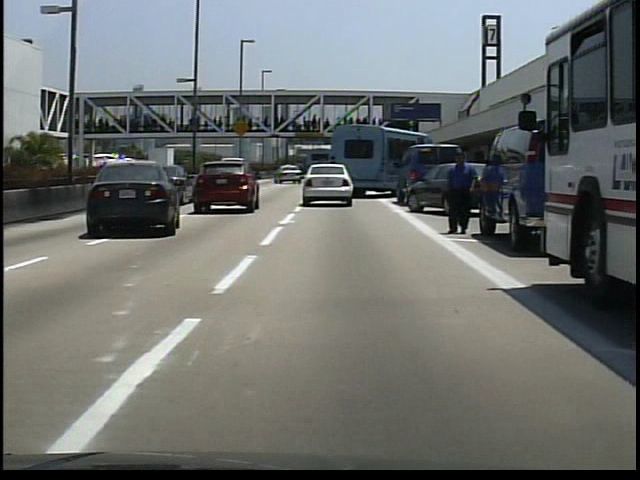person: (440, 150, 485, 241)
